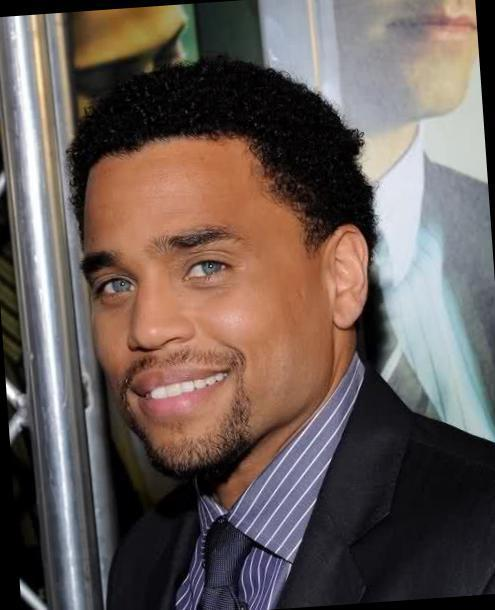Sober: (87, 163, 325, 427)
